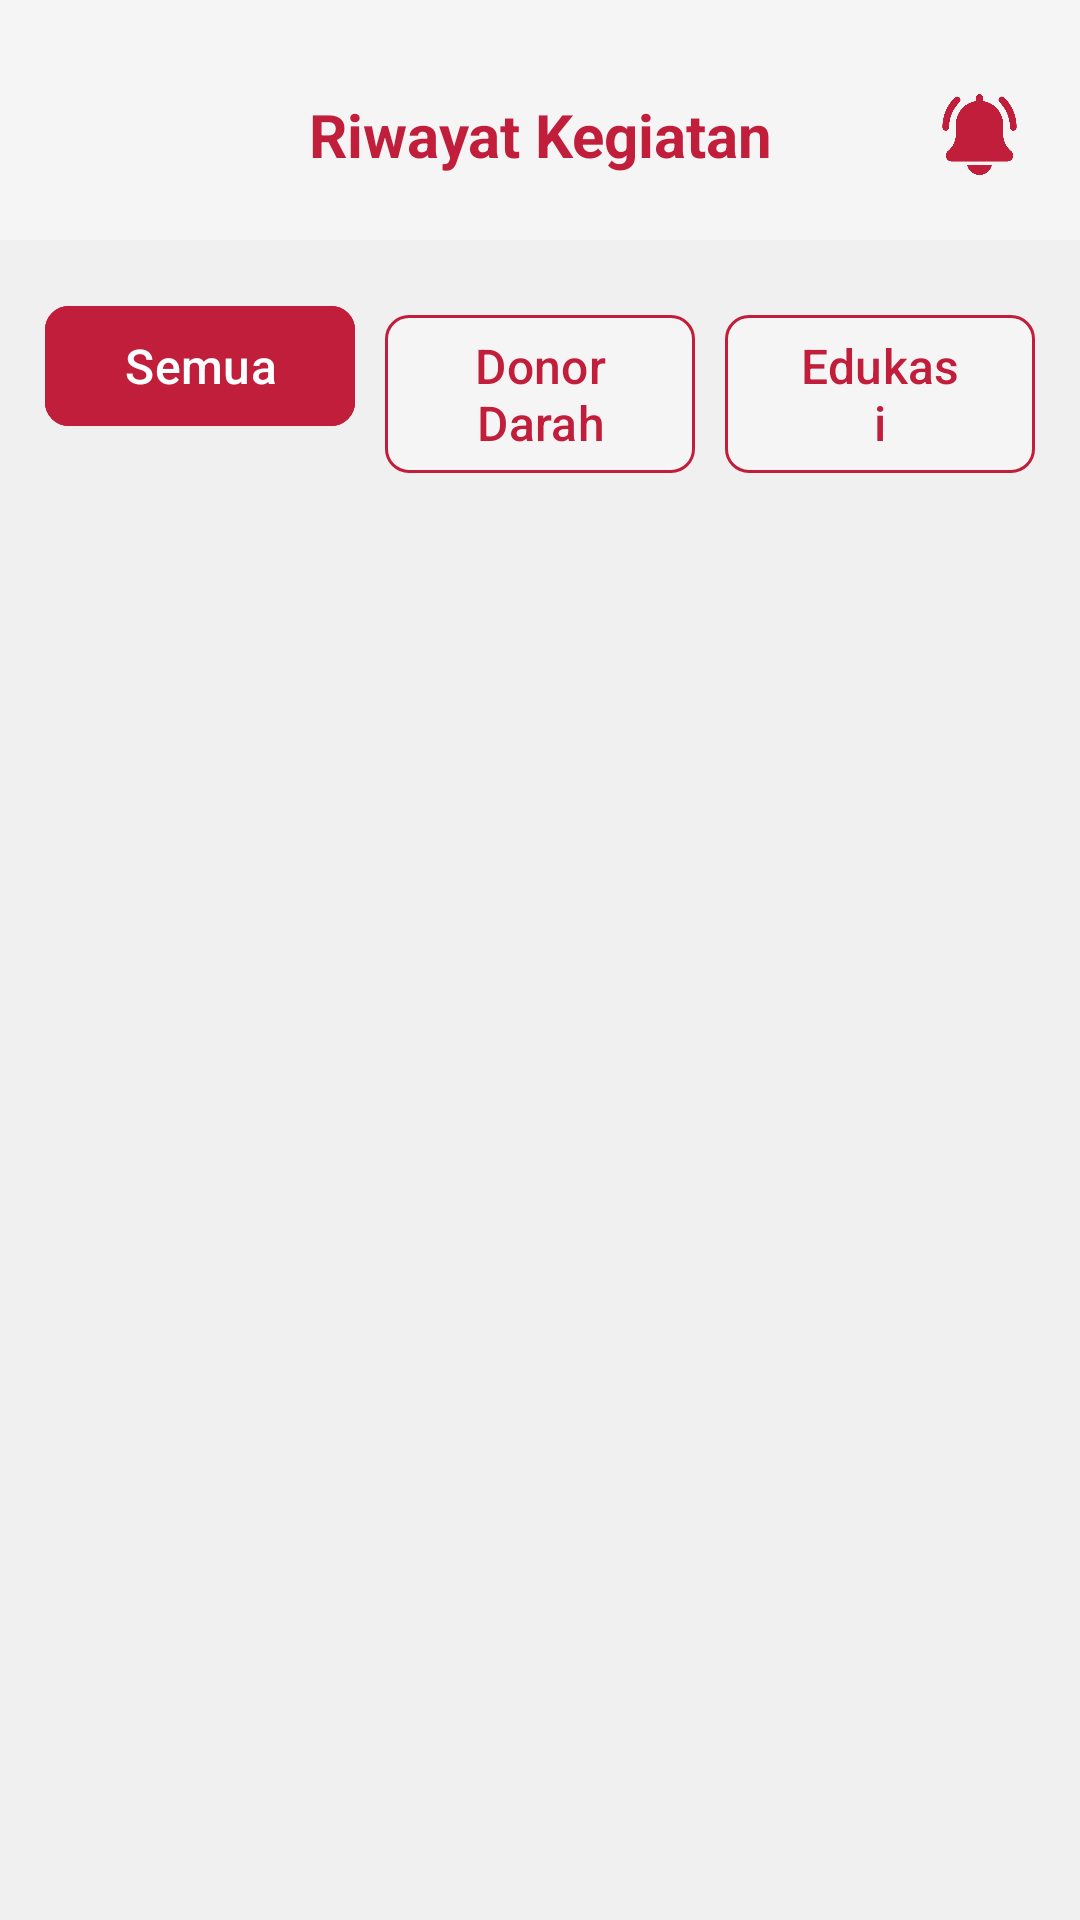

Screen size 1080px x 1920px. Icon name, then its box in pixels as (x1, y1, x2, y2):
Notification: (942, 94, 1017, 175)
